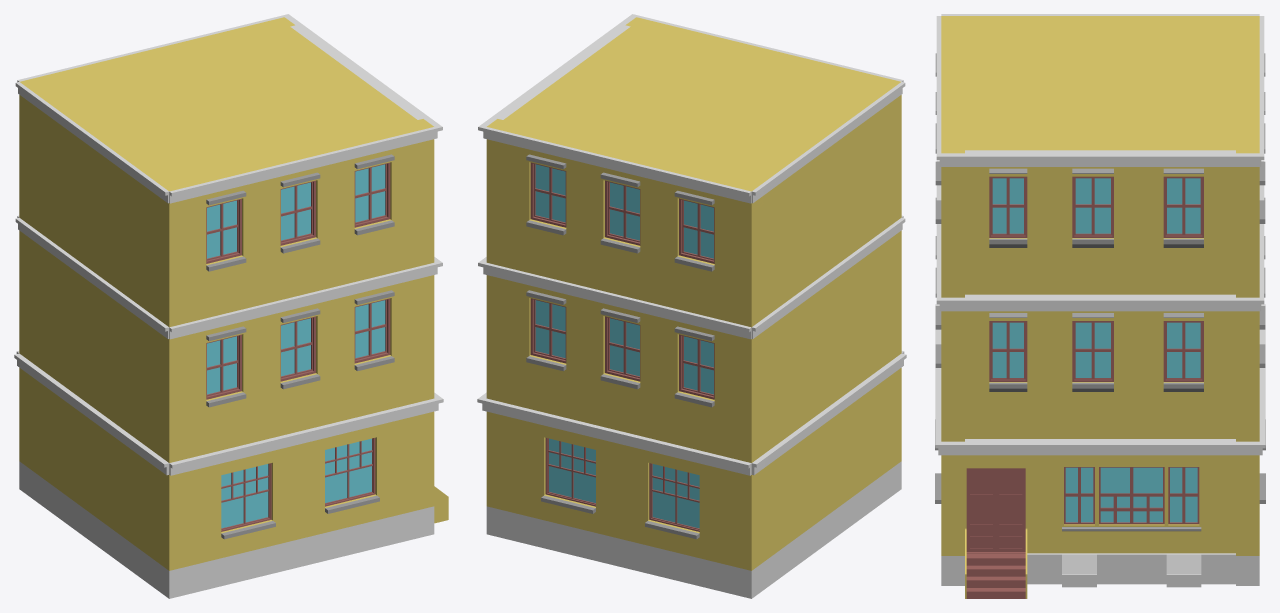
Rendered from preeeedio.fbx.
3 renders of one model, left to right at view 1: azimuth 30°, elevation 25°; view 2: azimuth 150°, elevation 25°; view 3: azimuth 270°, elevation 25°, orthographic. The views are drawn at different scales.
Visible parts, largest first — view 1: andar, andar terreo; view 2: andar, andar terreo; view 3: andar, andar terreo, elem.
Boxes of the visible parts, box(x1,y1,x2,y2) form: andar: box(15, 14, 442, 462); andar terreo: box(14, 351, 443, 598); andar: box(478, 14, 905, 462); andar terreo: box(477, 351, 906, 598); andar: box(935, 14, 1265, 441); andar terreo: box(935, 304, 1265, 587); elem: box(965, 528, 1027, 598).
Size of the model in its own units: 228 by 300 by 208.
